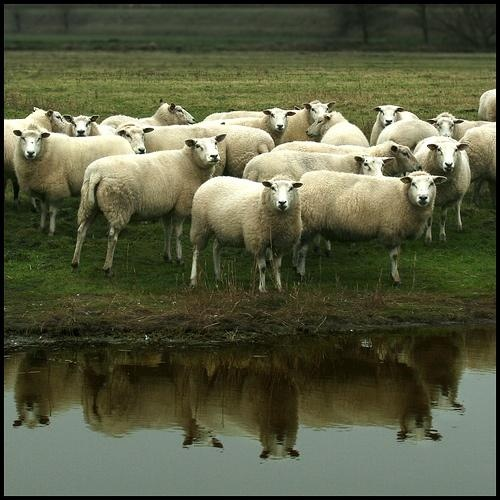sheep: (74, 132, 228, 274), (295, 171, 450, 289), (189, 174, 308, 298), (8, 127, 139, 236), (1, 108, 69, 204), (412, 138, 469, 252), (238, 148, 387, 186), (270, 141, 422, 178), (205, 100, 334, 137), (454, 123, 500, 203), (302, 110, 371, 149), (104, 107, 198, 131), (435, 112, 493, 145), (232, 110, 294, 140), (369, 105, 419, 141), (374, 118, 436, 145), (65, 113, 117, 138), (124, 125, 149, 154), (477, 89, 499, 121)
